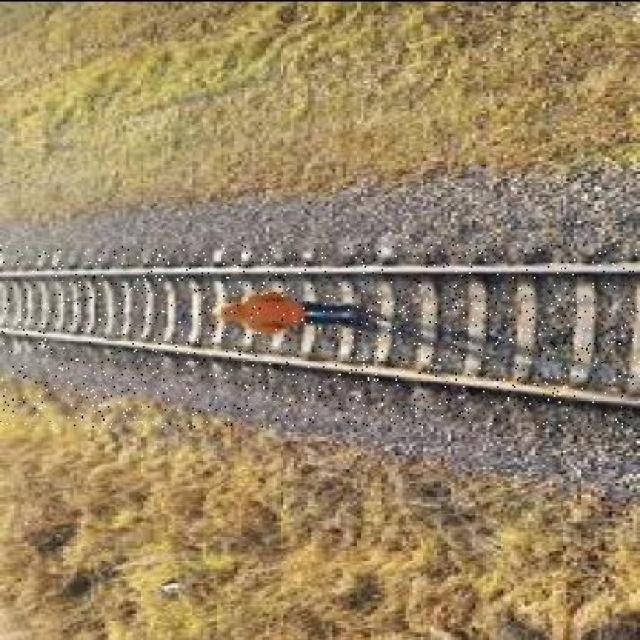danger: (212, 291, 372, 347)
rail: (0, 244, 640, 426)
